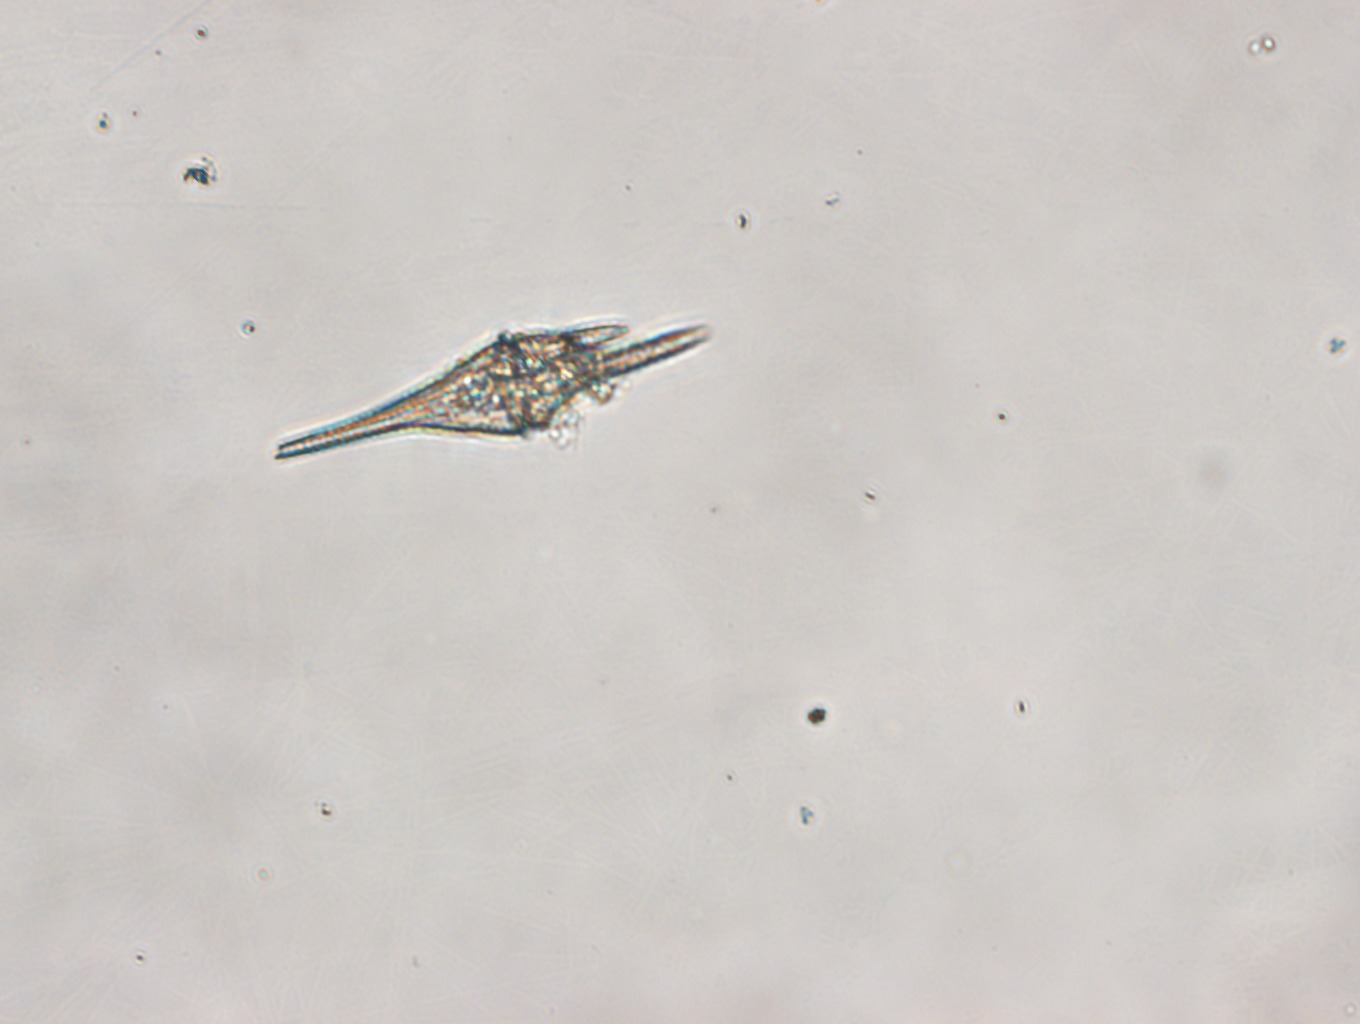ceratium furca: (268, 317, 715, 464)
